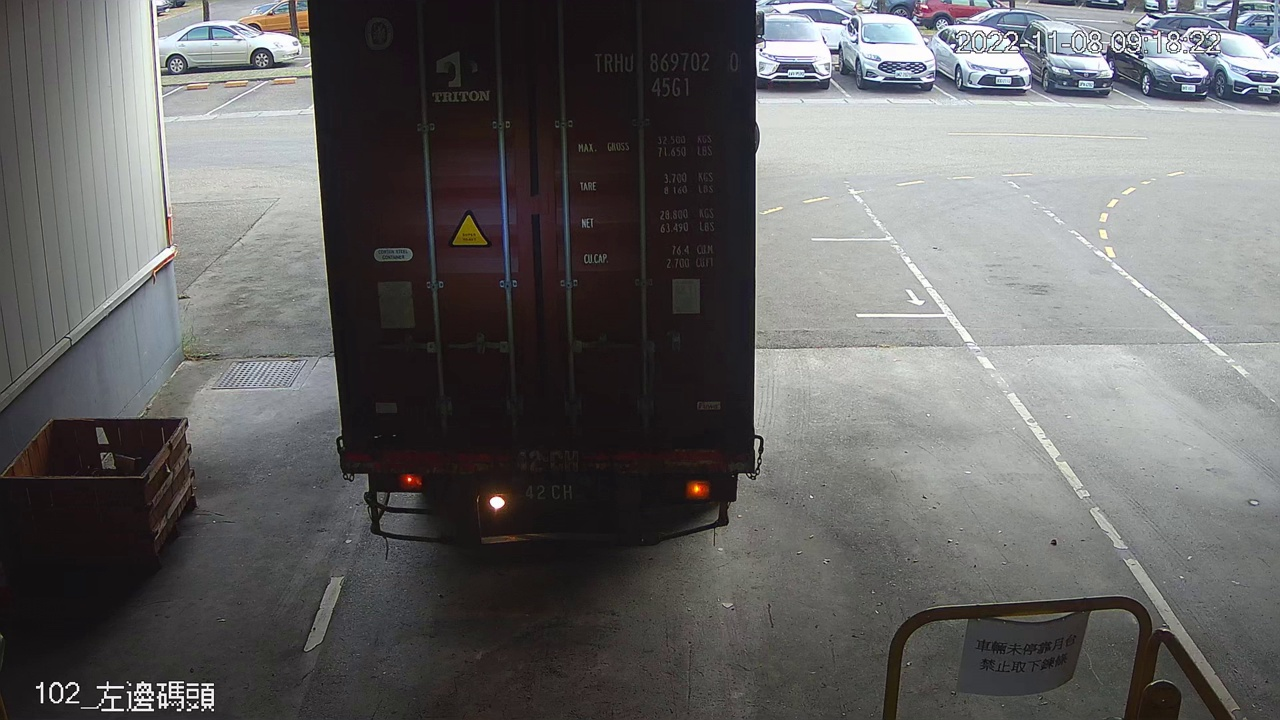container: (586, 43, 747, 104)
